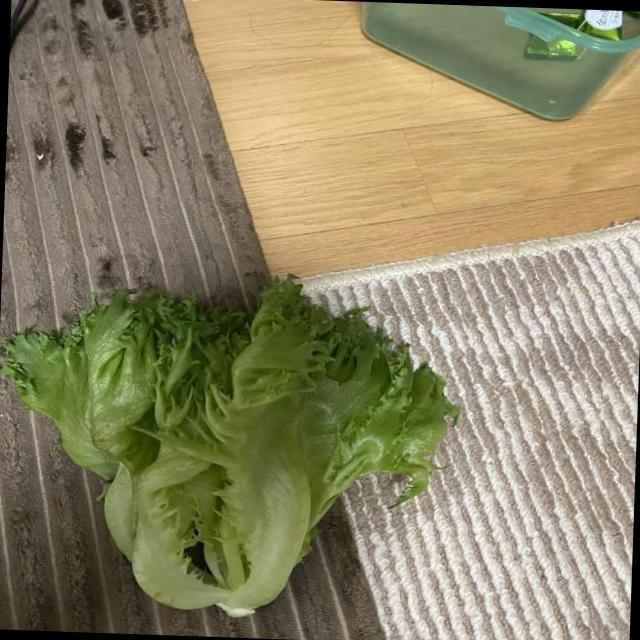Lettuce-Ready-to-Harvest: (1, 276, 457, 616)
